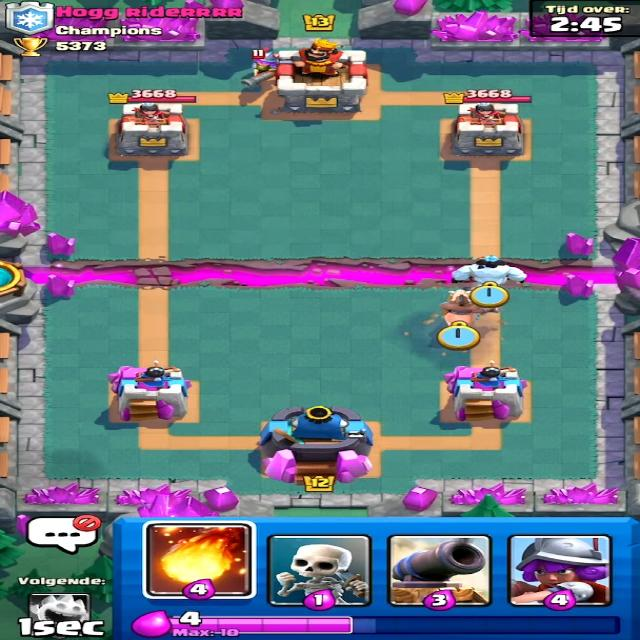Cannon_Card: (385, 532, 491, 606)
Enemy_Musketeer_Troop: (234, 51, 280, 88)
Fireball_Card: (140, 522, 250, 598)
Hog_Rider_Troop: (440, 287, 490, 325)
Musketeer_Card: (506, 533, 614, 606)
Skeleton_Card: (265, 530, 366, 599)
